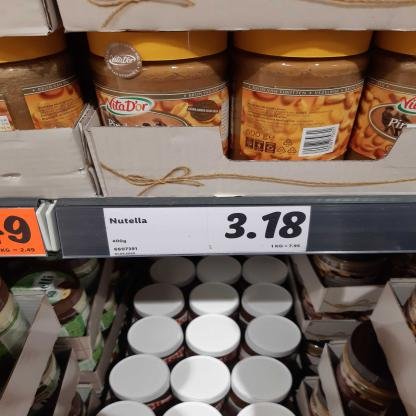prtg: (104, 207, 313, 257), (1, 209, 48, 257)
